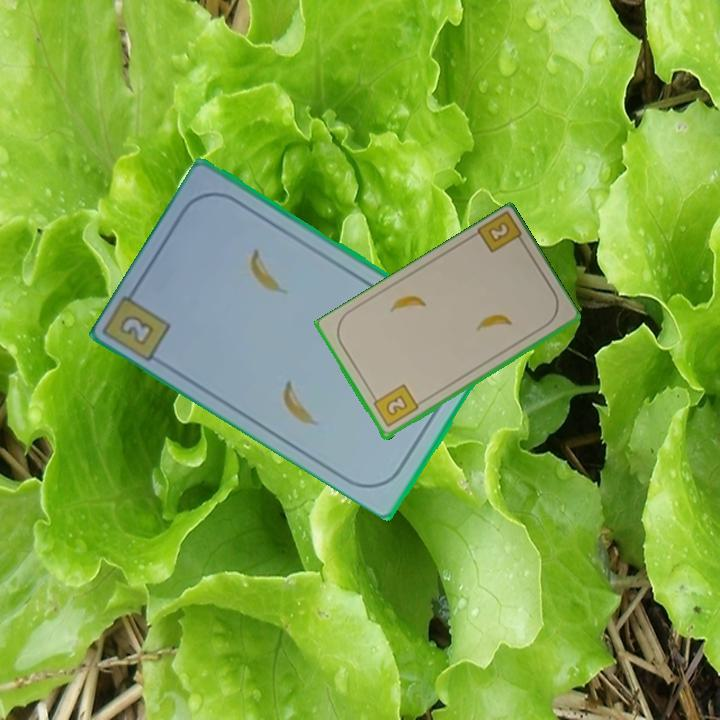2b: (368, 381, 421, 430), (473, 210, 529, 256), (116, 311, 158, 349)
